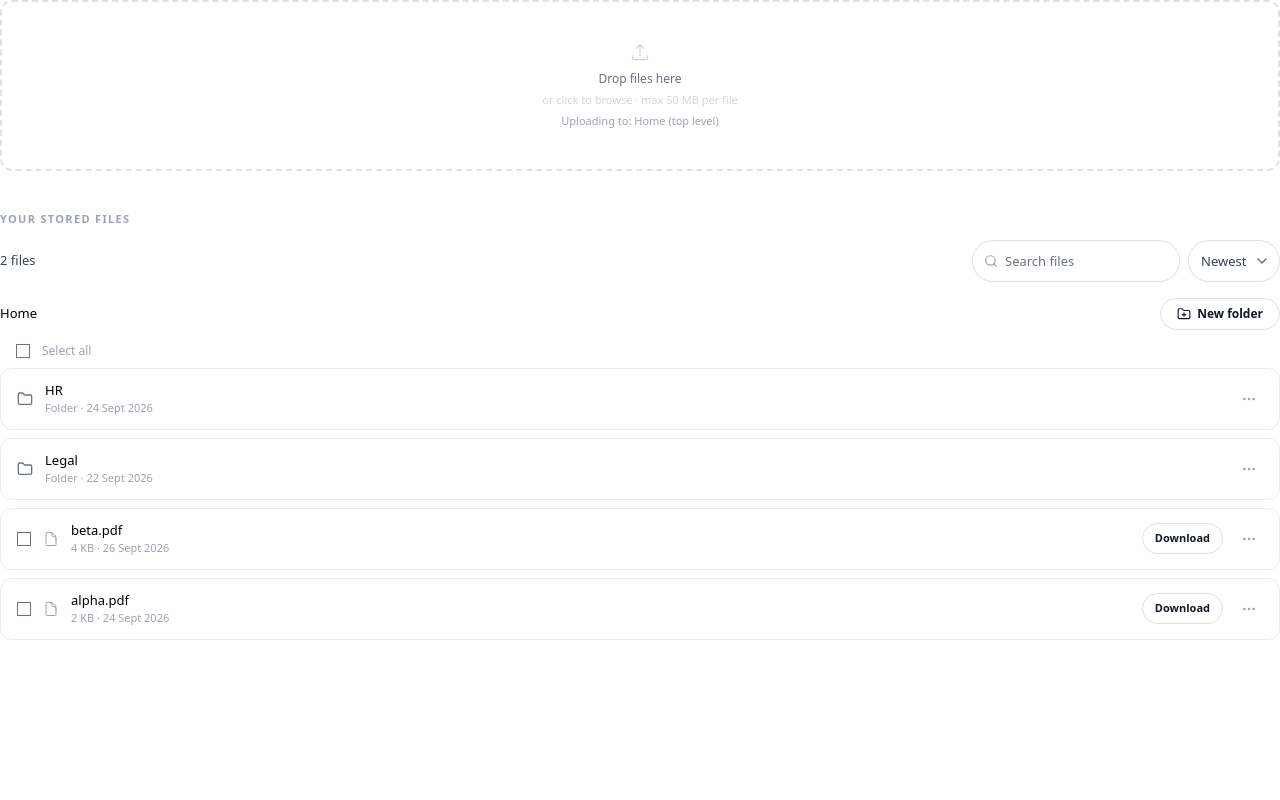
Test: FileBrowser › shows the server's message when a folder name is already used
The width and height of the screenshot is (1280, 800).
Expected: the text "alpha.pdf" is shown, [71,590,129,608]
Click the button "New folder". click: (1220, 314)
box: [1160,298,1279,330]
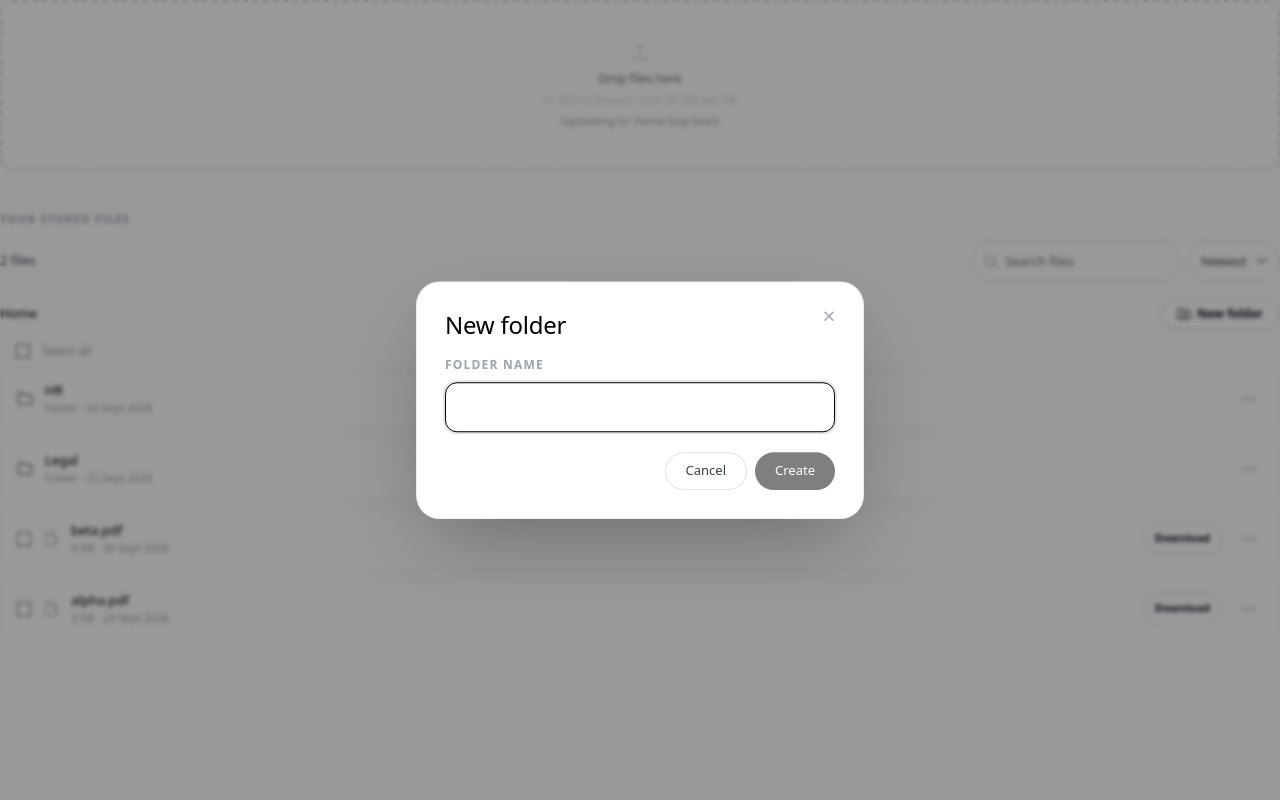
Type "legal" into the field labelled "Folder name". click: (640, 407)
box: [445,382,835,432]
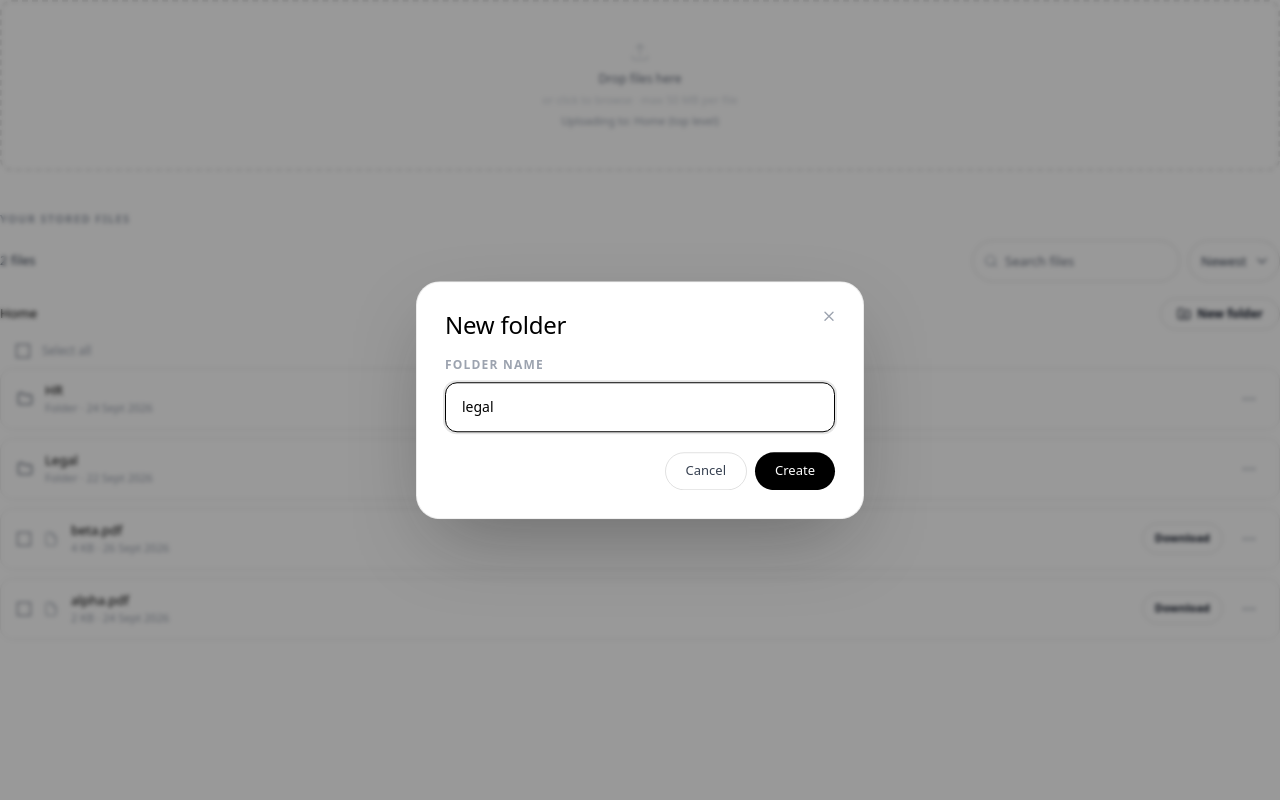
Click the button "Create". click: (795, 471)
box: [755,452,835,490]
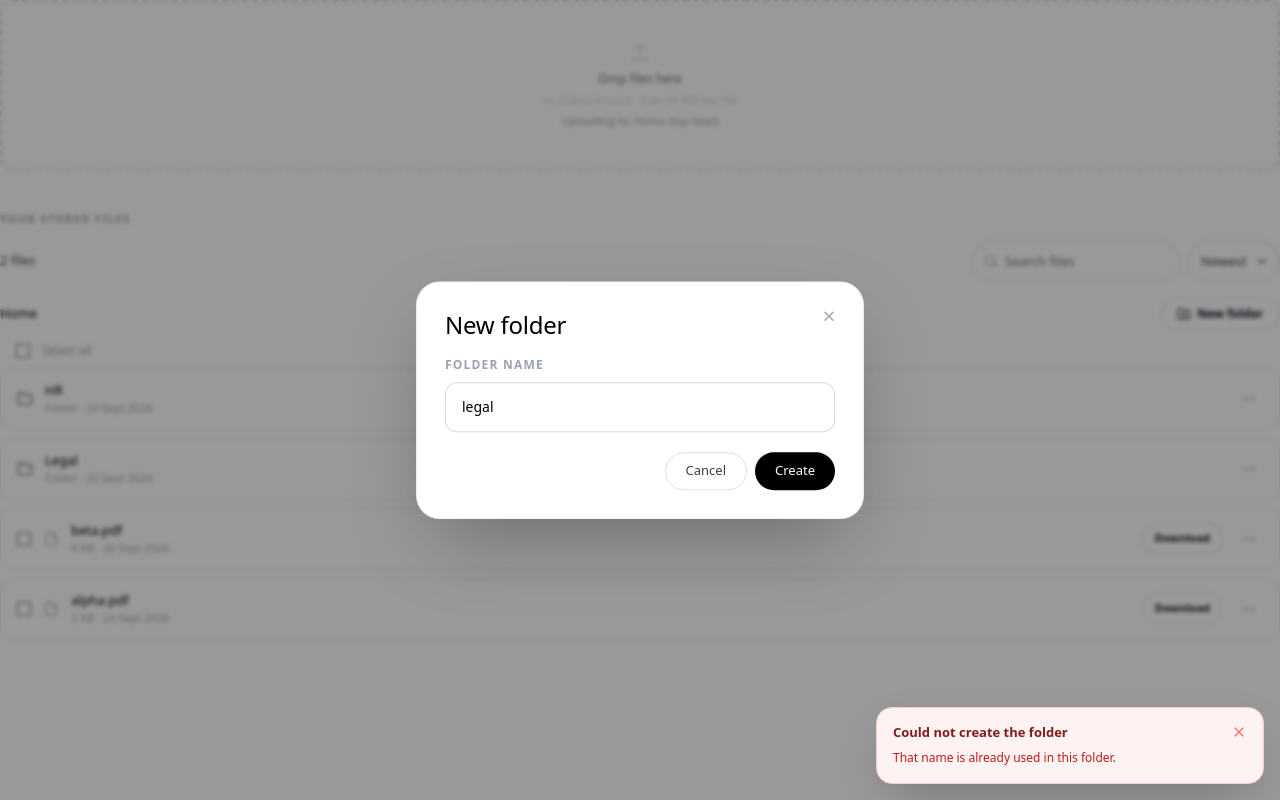
Expected: the text "That name is already used in this folder." is shown, [893,748,1116,767]
